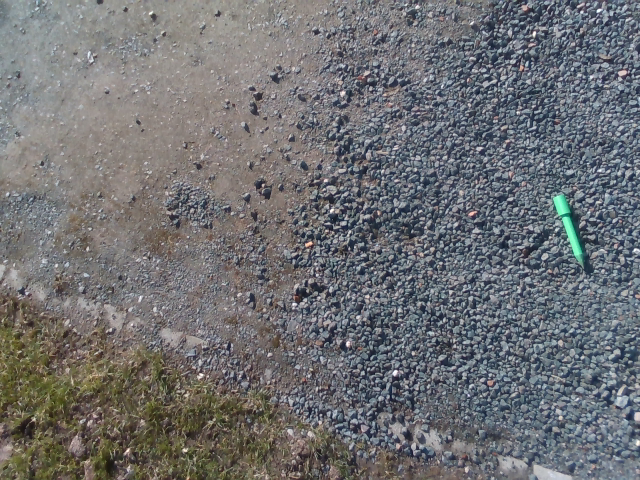Probe: (550, 192, 589, 275)
